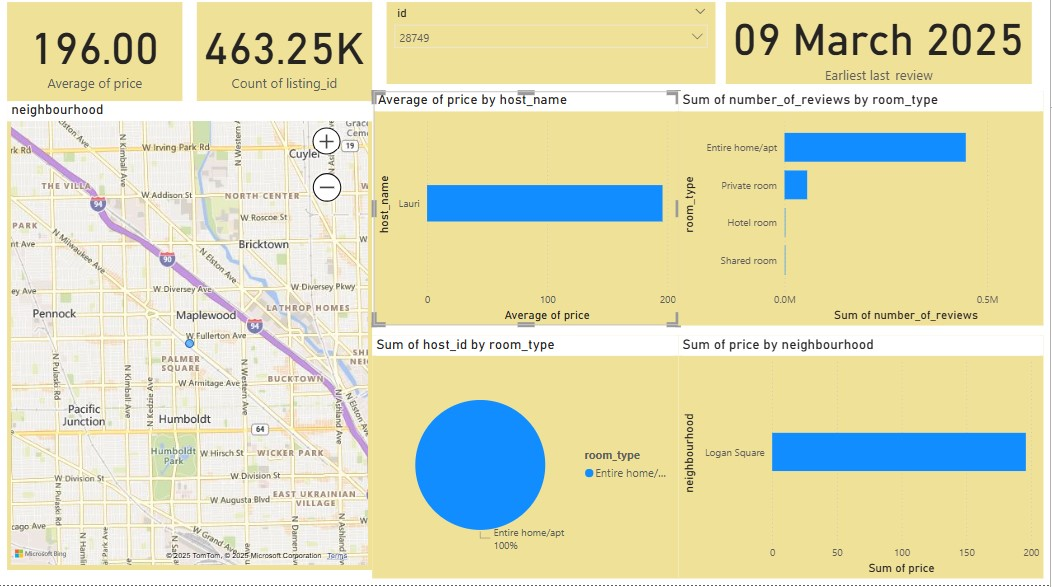

The page's visual inventory and layout, read from the dashboard file:
{"tool":"powerbi","page":{"name":"Page 1","canvas":[1280,720],"ordinal":0},"visuals":[{"type":"card","fields":{"Values":["chicago listings.price"]},"box":[12.2,12.2,212.9,120.4],"z":0},{"type":"card","fields":{"Values":["chicago reviews.listing_id"]},"box":[242.5,12.2,212.9,120.4],"z":1},{"type":"map","fields":{"Category":["chicago listings.neighbourhood"]},"box":[12.2,132.6,443.2,568.8],"z":2},{"type":"pieChart","fields":{"Category":["chicago listings.room_type"],"Y":["chicago listings.host_id"]},"box":[455.4,417,371.7,294.9],"z":3},{"type":"barChart","fields":{"Category":["chicago listings.neighbourhood"],"Y":["chicago listings.price"]},"box":[827.1,417,443.2,294.9],"z":4},{"type":"barChart","fields":{"Category":["chicago listings.host_name"],"Y":["chicago listings.price"]},"box":[457.2,120.4,371.7,284.4],"z":5},{"type":"barChart","fields":{"Category":["new orlians listings (1).room_type"],"Y":["new orlians listings (1).number_of_reviews"]},"box":[827.1,120.4,443.2,284.4],"z":6},{"type":"slicer","fields":{"Values":["chicago listings.id"]},"box":[472.9,12.2,399.6,99.5],"z":7},{"type":"card","fields":{"Values":["chicago listings.last_review"]},"box":[884.7,12.2,371.7,99.5],"z":8}]}

Visuals, with their boxes in screenshot pixels (x1, y1, x2, y2), scaled from the page's 1280x720 canvas onto the 1052x587 screenshot:
card - chicago listings.price: 10,10,185,108
card - chicago reviews.listing_id: 199,10,374,108
map - chicago listings.neighbourhood: 10,108,374,572
pieChart - chicago listings.room_type x chicago listings.host_id: 374,340,680,580
barChart - chicago listings.neighbourhood x chicago listings.price: 680,340,1044,580
barChart - chicago listings.host_name x chicago listings.price: 376,98,681,330
barChart - new orlians listings (1).room_type x new orlians listings (1).number_of_reviews: 680,98,1044,330
slicer - chicago listings.id: 389,10,717,91
card - chicago listings.last_review: 727,10,1033,91
